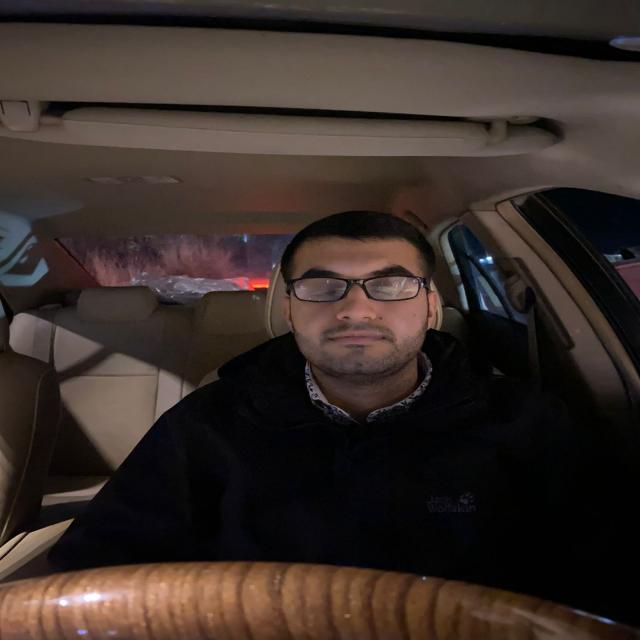drowsy: (278, 210, 442, 378)
